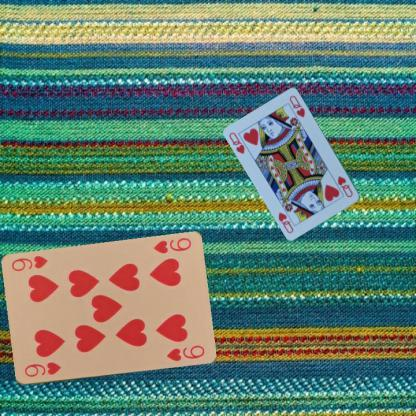9h: (150, 235, 192, 256), (22, 359, 62, 379)
Qh: (335, 173, 354, 199), (227, 130, 246, 156)
